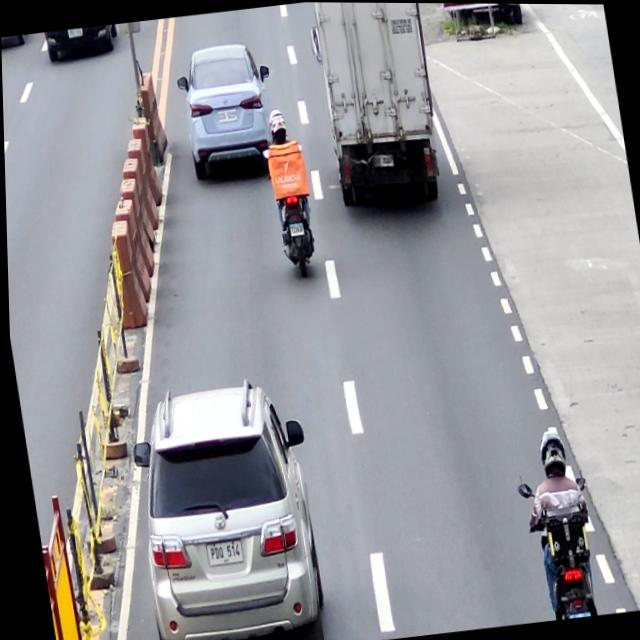Car: (116, 371, 333, 640), (171, 37, 282, 184)
License-Plate: (202, 540, 239, 565), (369, 152, 393, 169), (215, 108, 237, 121), (287, 221, 303, 237)
Motorcycle: (514, 472, 601, 621), (259, 140, 323, 284)
Truck: (305, 2, 448, 205)
